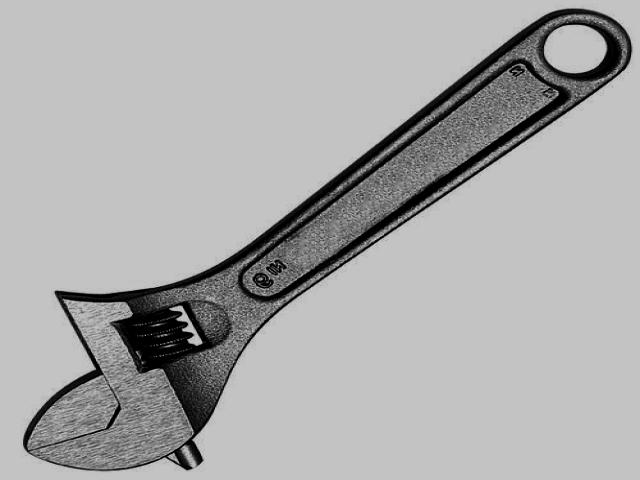Adjustable spanner: (24, 10, 631, 471)
